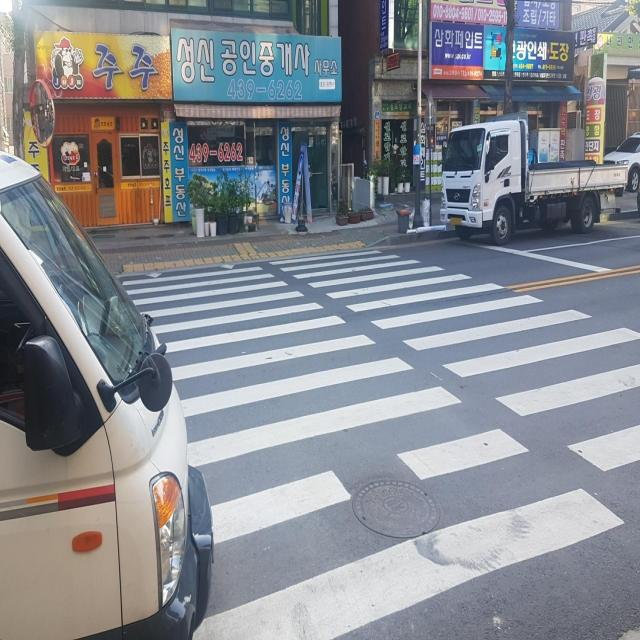횡단보도: (120, 247, 640, 640)
